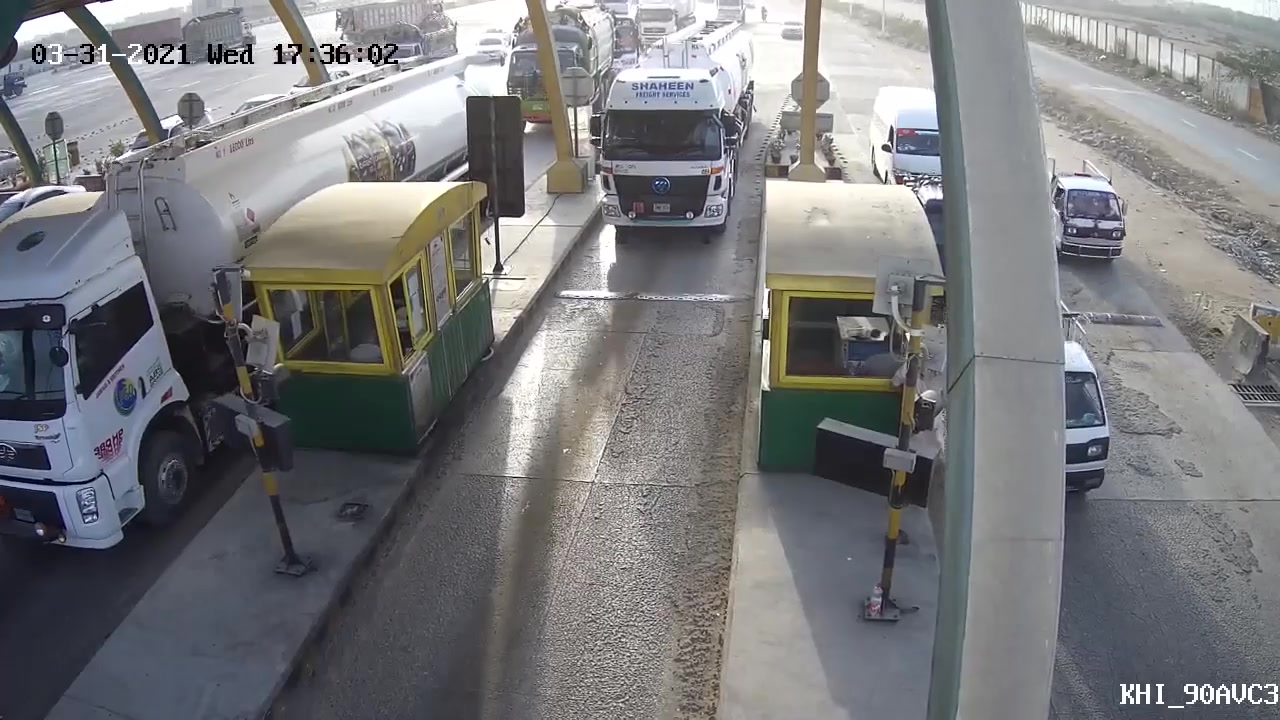F6: (588, 13, 754, 244)
